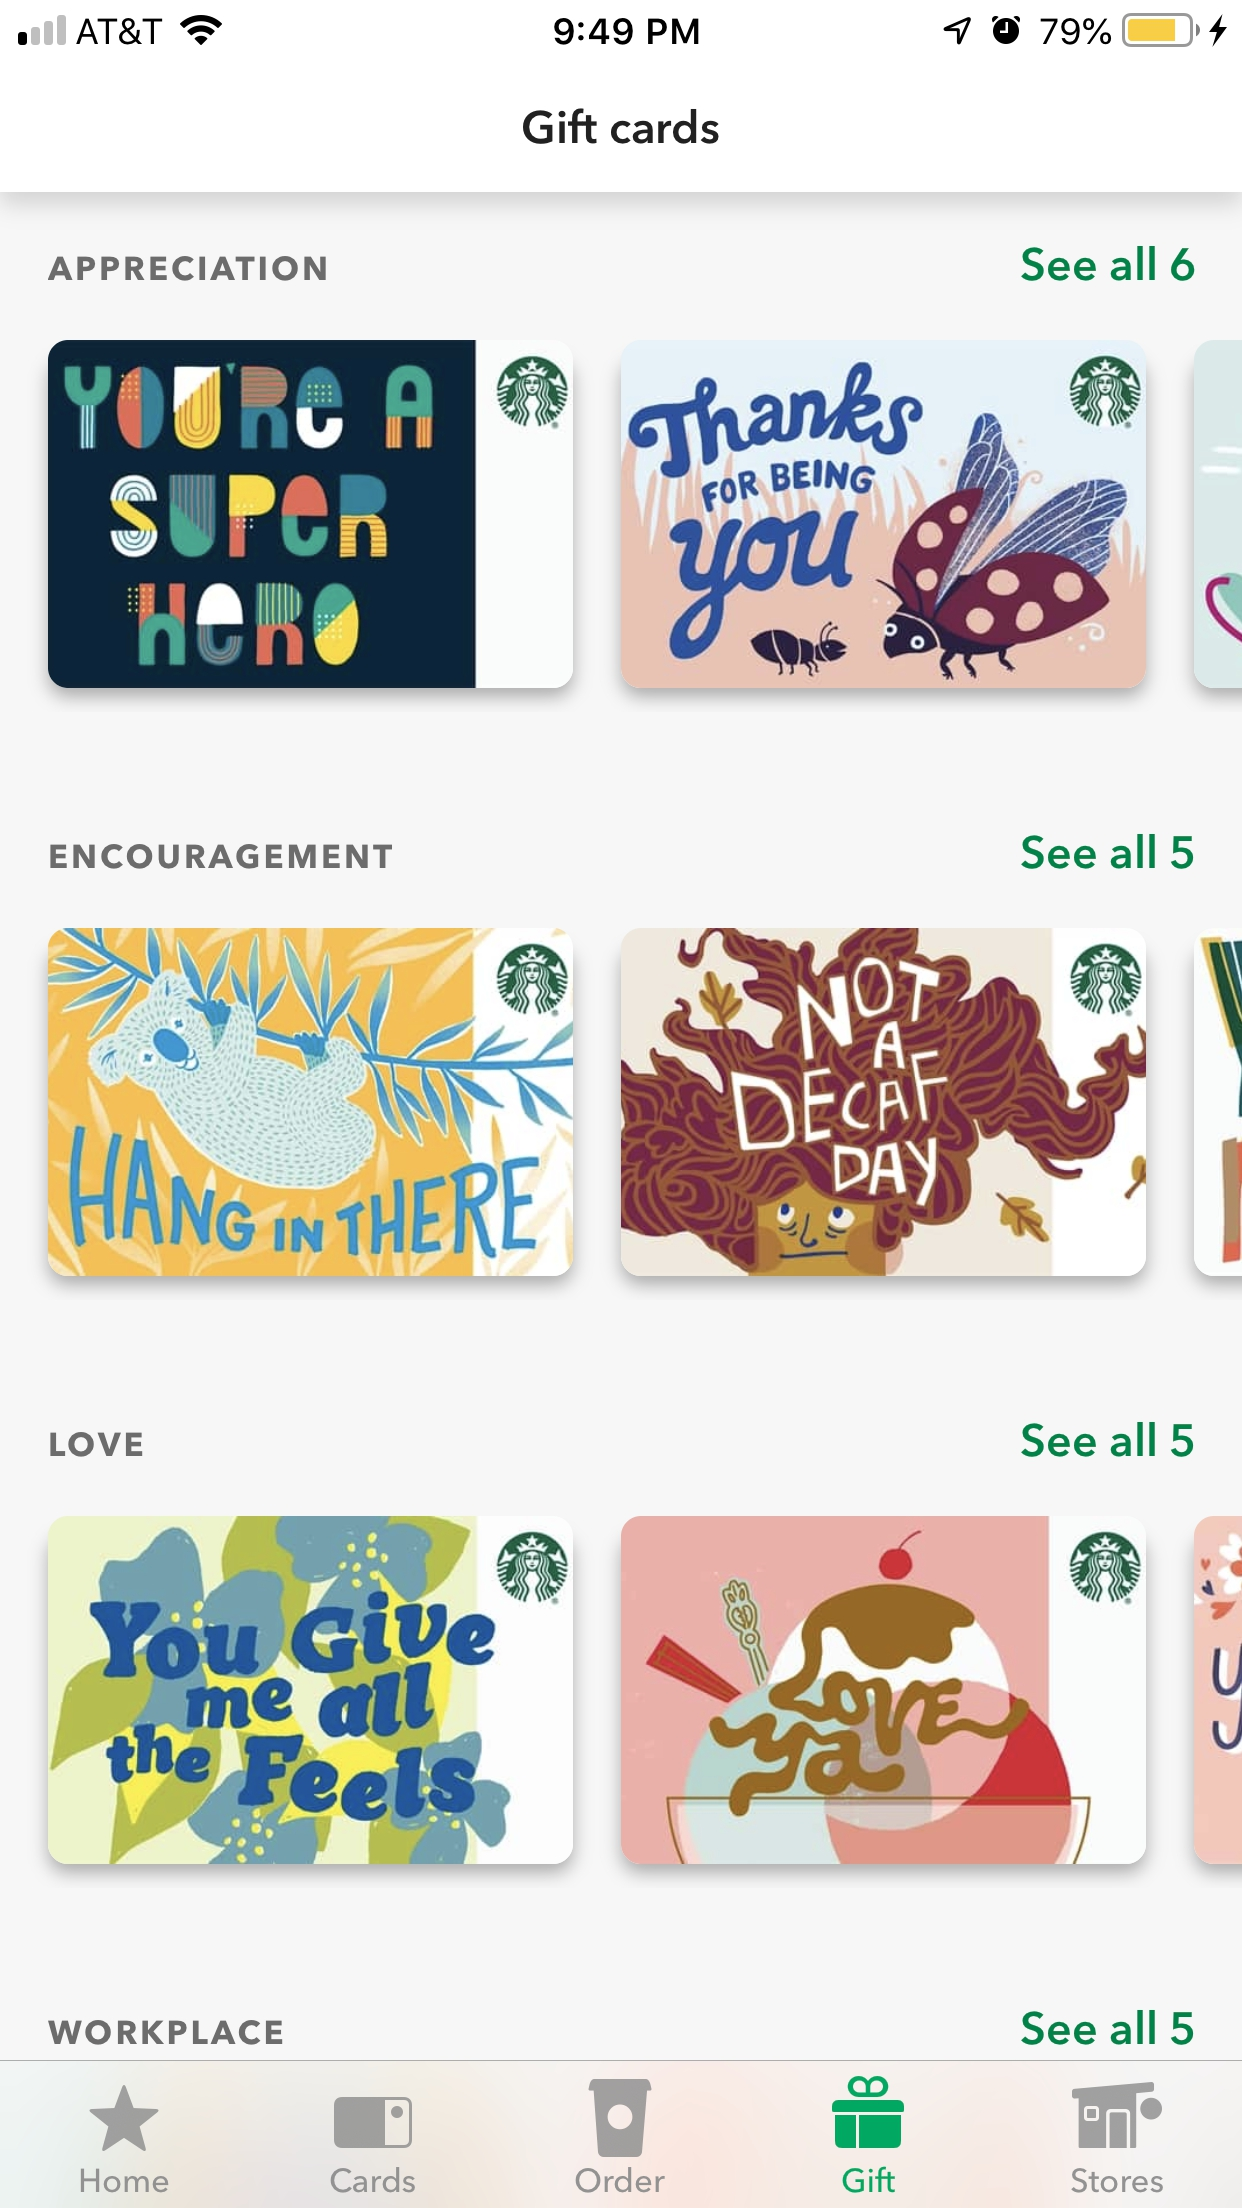Icon: (831, 2075, 905, 2149), (89, 2084, 161, 2152), (334, 2096, 412, 2149)
Image: (622, 1515, 1148, 1865), (49, 1515, 575, 1865), (622, 928, 1146, 1278), (49, 928, 575, 1277), (49, 340, 575, 688), (622, 340, 1146, 688), (1193, 927, 1242, 1277), (1193, 340, 1242, 690), (1193, 1516, 1242, 1865), (1071, 2081, 1163, 2149), (588, 2078, 654, 2158)
Text: (50, 845, 394, 869), (523, 108, 720, 146), (49, 256, 328, 282), (1021, 833, 1193, 870), (1021, 2009, 1193, 2046), (1021, 1421, 1193, 1457), (49, 2020, 284, 2046), (1021, 249, 1193, 282), (1071, 2167, 1165, 2194), (575, 2166, 666, 2193), (50, 1432, 144, 1457), (80, 2167, 168, 2194), (331, 2167, 417, 2194), (842, 2166, 896, 2194)
UpperTaskBar: (2, 2, 1242, 49)
